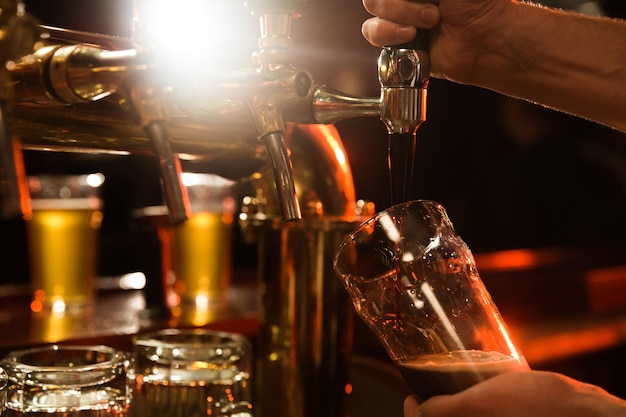alcohol: (333, 199, 531, 417), (153, 176, 243, 327), (19, 172, 108, 318)
